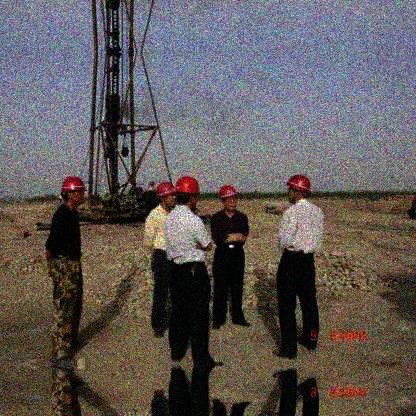helmet: (173, 176, 202, 212), (60, 176, 88, 207), (286, 173, 314, 203), (217, 183, 239, 212), (155, 181, 175, 208)
